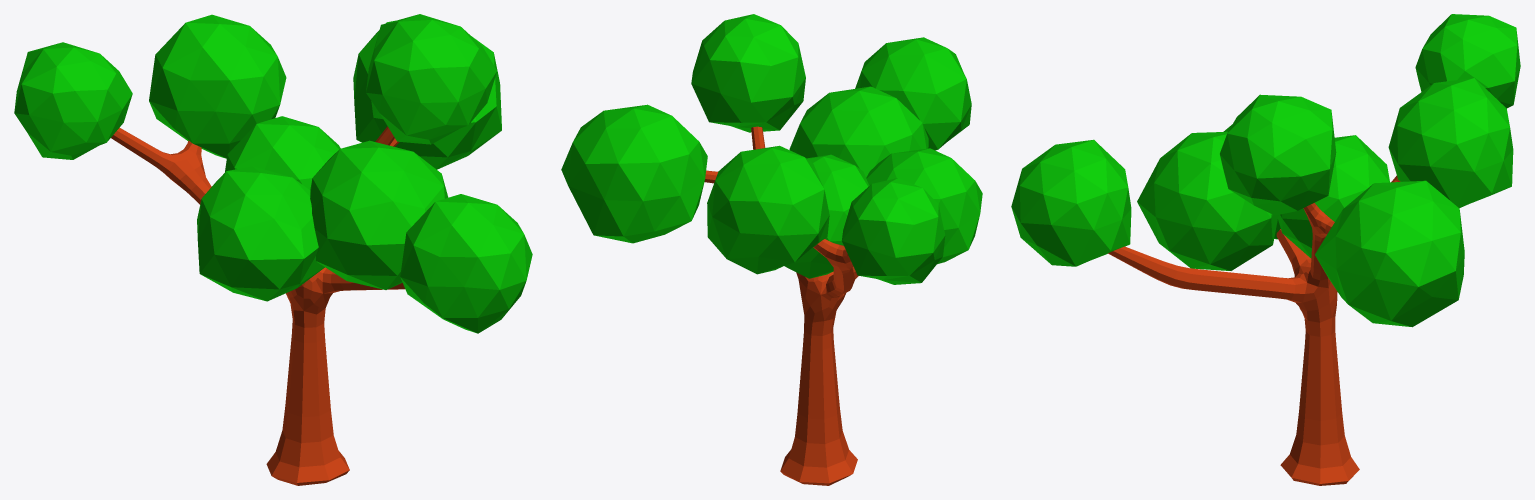
File: testTree.obj
The picture shows the model from 3 angles, left to right: view 1: azimuth 30°, elevation 25°; view 2: azimuth 150°, elevation 25°; view 3: azimuth 270°, elevation 25°; orthographic projection. The views are drawn at different scales.
Visible parts, largest first — view 1: Icosphere, Plane; view 2: Icosphere, Plane; view 3: Icosphere, Plane.
Boxes of the visible parts, x1,y1,x2,y2 form: Icosphere: [14, 14, 532, 333]; Plane: [111, 126, 404, 485]; Icosphere: [561, 14, 982, 284]; Plane: [704, 126, 858, 485]; Icosphere: [1011, 14, 1520, 327]; Plane: [1108, 175, 1400, 485].
Bounding box in the file's own units: 9.51 × 9.37 × 10.31.
